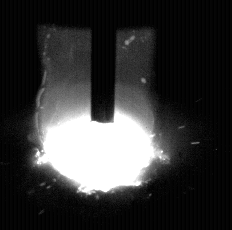arame: (91, 0, 116, 124)
poca: (35, 0, 161, 230)
